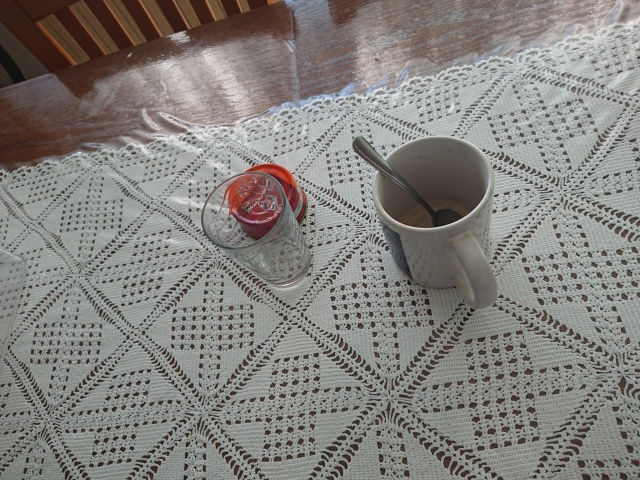Gavrilovic Pork Liver Pate 100g: (226, 161, 310, 241)
